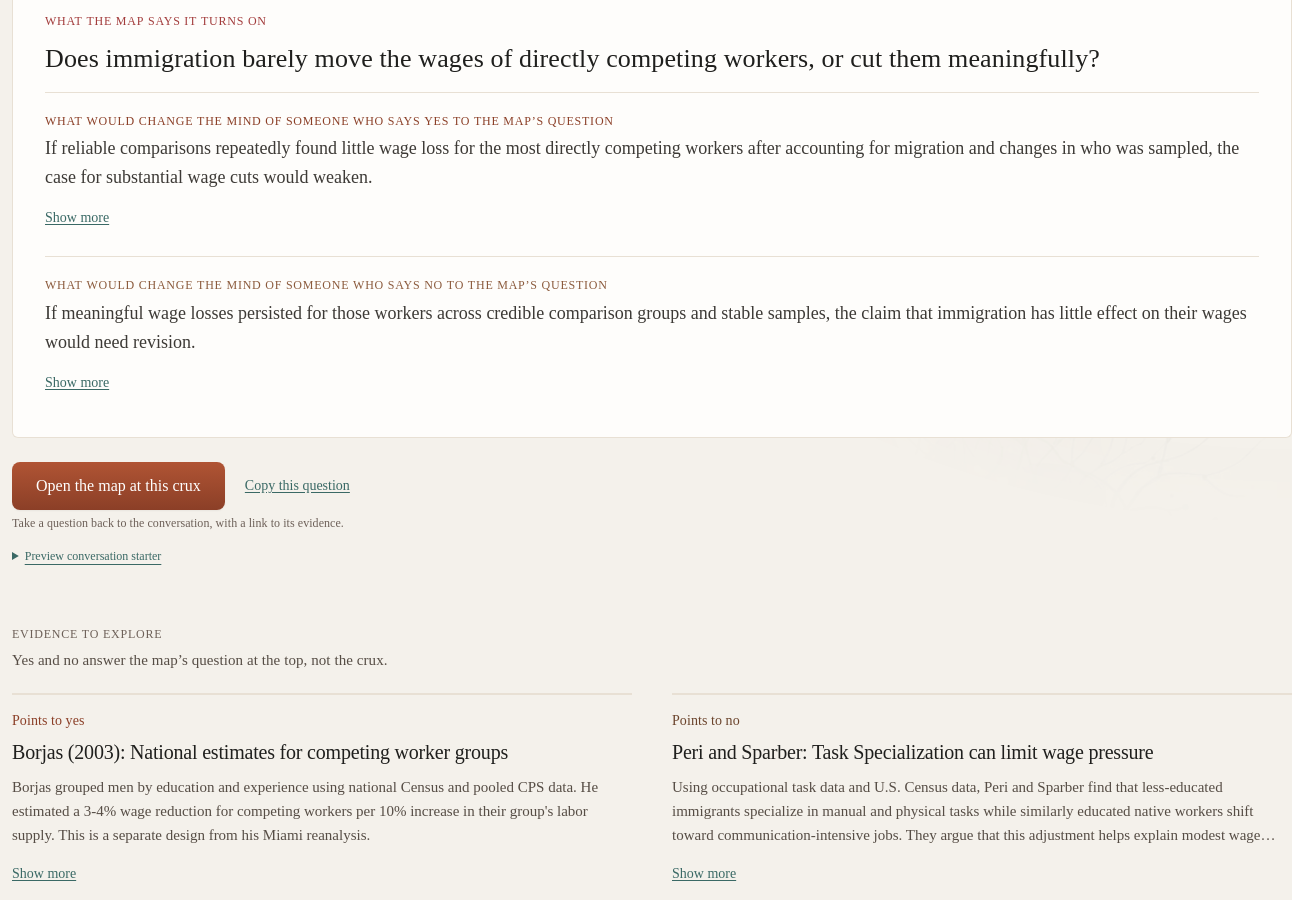
it: the map block on a phone › previews and copies just the crux question and evidence link
(page scrolled)
Click the button "Copy this question".
click(297, 486)  # box [245, 464, 350, 508]
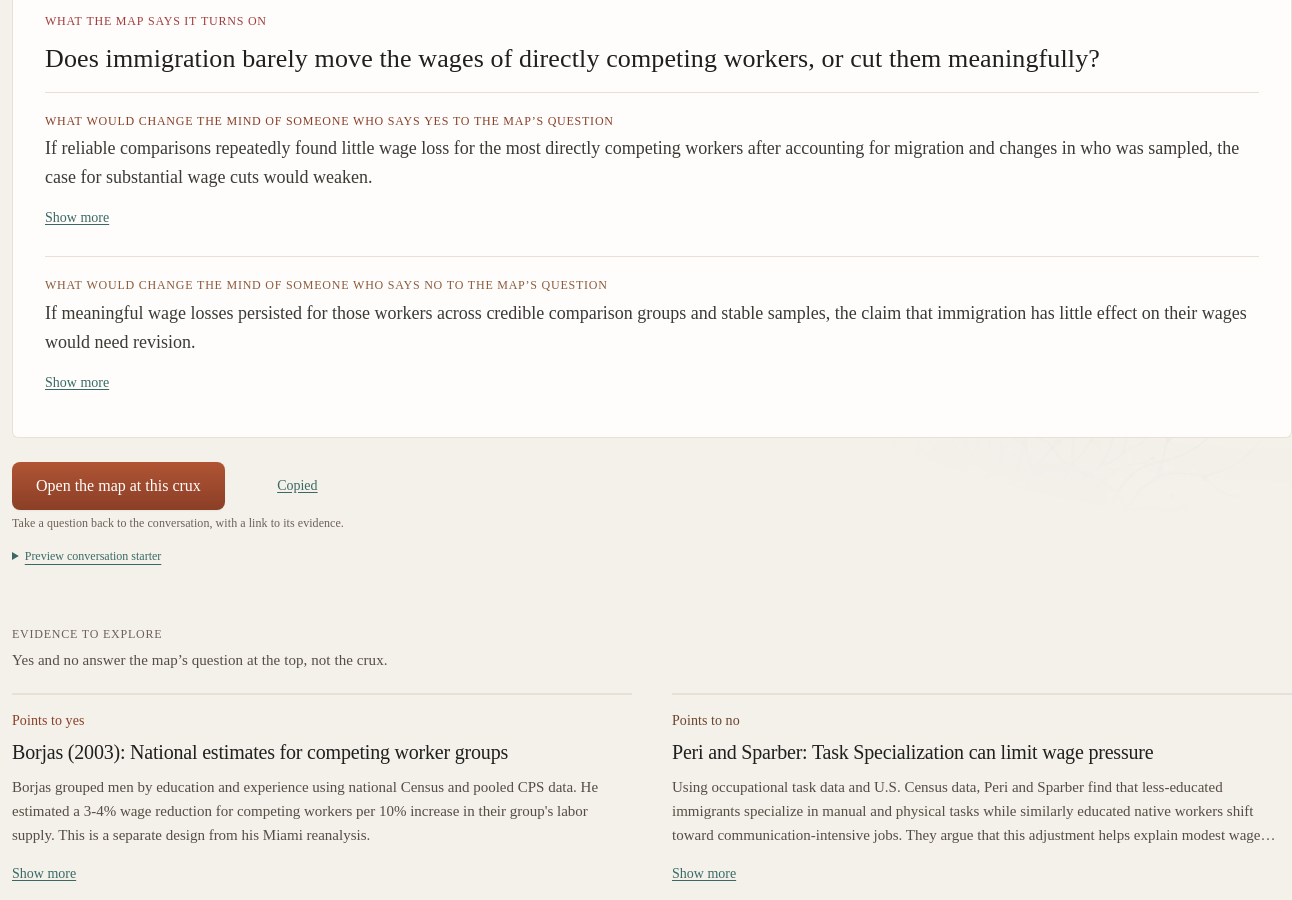
Now the button "Copied" is shown, box [245, 464, 350, 508]
